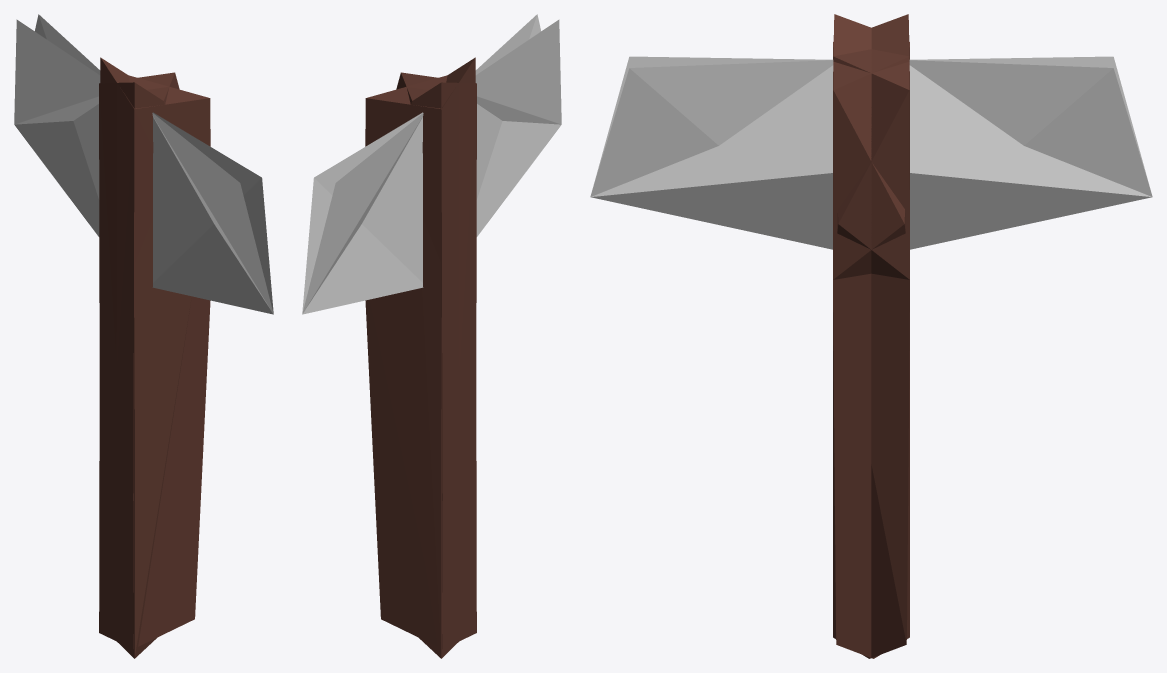
The model's file is axe.fbx.
The picture shows the model from 3 angles, left to right: view 1: azimuth 30°, elevation 25°; view 2: azimuth 150°, elevation 25°; view 3: azimuth 270°, elevation 25°; orthographic projection. The views are drawn at different scales.
Parts seen in each view (by area): view 1: Cube; view 2: Cube; view 3: Cube.
Boxes of the visible parts, <box> form: Cube: <box>14,14,273,658</box>; Cube: <box>302,14,561,658</box>; Cube: <box>590,14,1152,658</box>.
Size of the model in its own units: 266 by 1794 by 1465.
